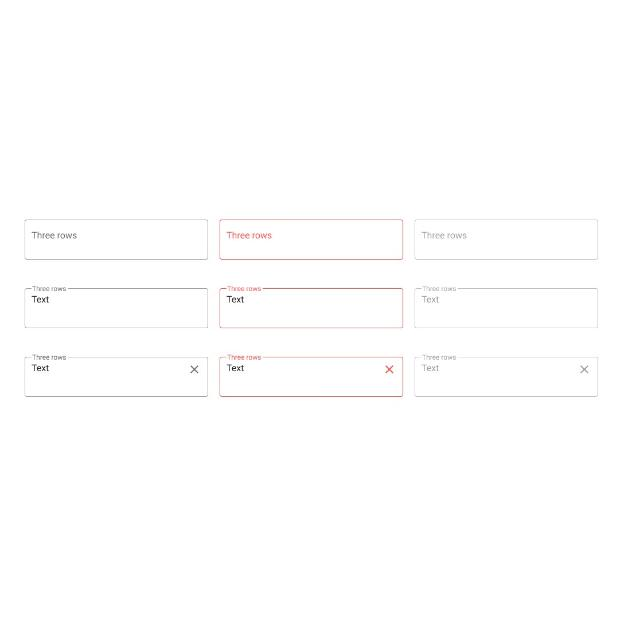VTextarea: (219, 352, 405, 398), (218, 284, 404, 328), (24, 353, 210, 397), (414, 353, 600, 397), (23, 285, 208, 329), (414, 285, 598, 329), (218, 218, 404, 260), (23, 218, 208, 260), (414, 218, 598, 260)
